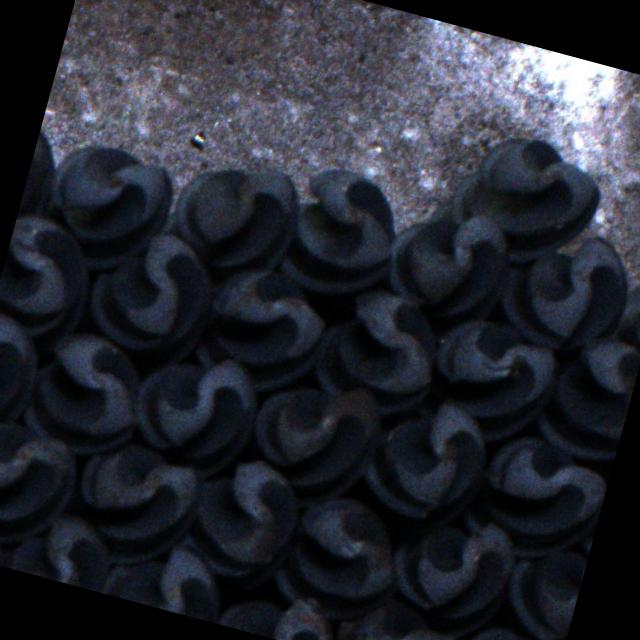tool_b: (425, 115, 612, 278), (74, 215, 222, 382), (238, 362, 388, 522), (30, 133, 185, 286), (456, 422, 614, 572), (350, 382, 498, 539), (187, 253, 339, 403), (491, 215, 640, 363), (302, 275, 450, 423), (119, 336, 266, 485), (413, 307, 564, 452), (173, 446, 310, 604), (373, 194, 518, 343), (266, 486, 411, 633), (377, 498, 526, 640), (61, 434, 204, 580), (276, 158, 413, 306), (162, 147, 306, 287), (14, 322, 152, 466), (0, 210, 105, 368), (530, 322, 640, 465), (0, 408, 86, 557), (99, 528, 232, 623), (490, 518, 593, 640), (0, 498, 115, 591), (213, 573, 343, 640), (331, 588, 466, 640), (0, 311, 48, 451), (435, 615, 564, 640)
